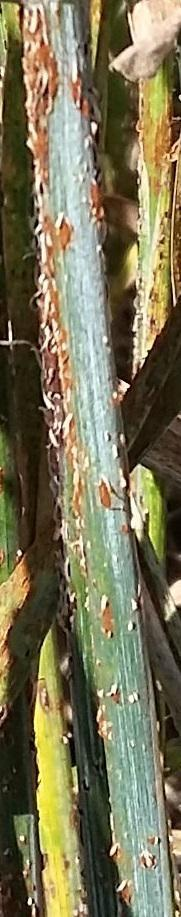Wheat: (24, 6, 134, 544), (79, 586, 169, 912)
